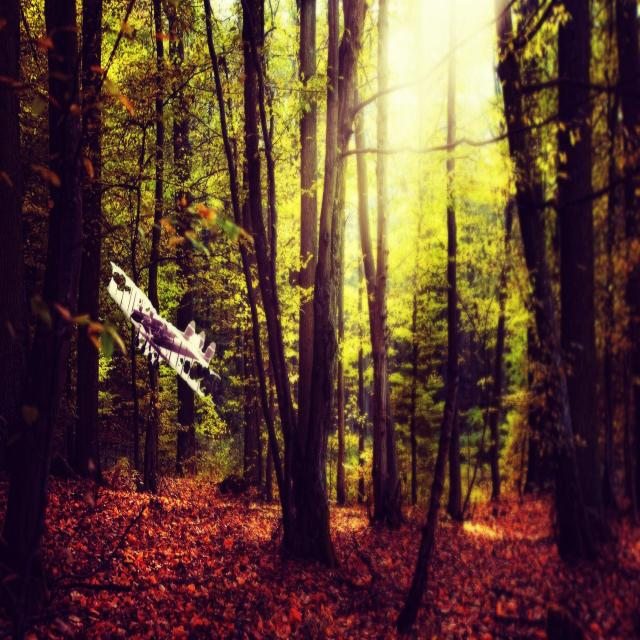airplane: (107, 260, 220, 400)
